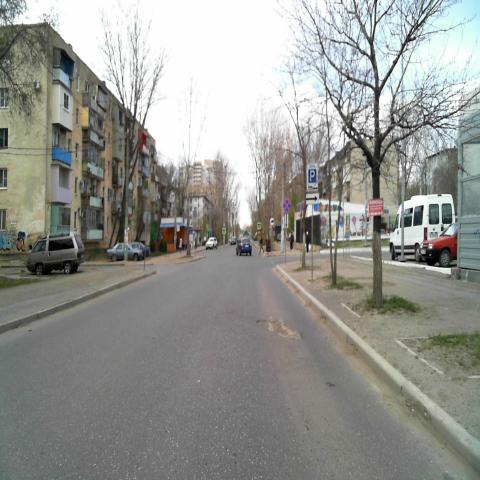3_27: (282, 198, 290, 212)
8_2_3: (284, 213, 288, 227)
8_3_1: (306, 194, 318, 204)
